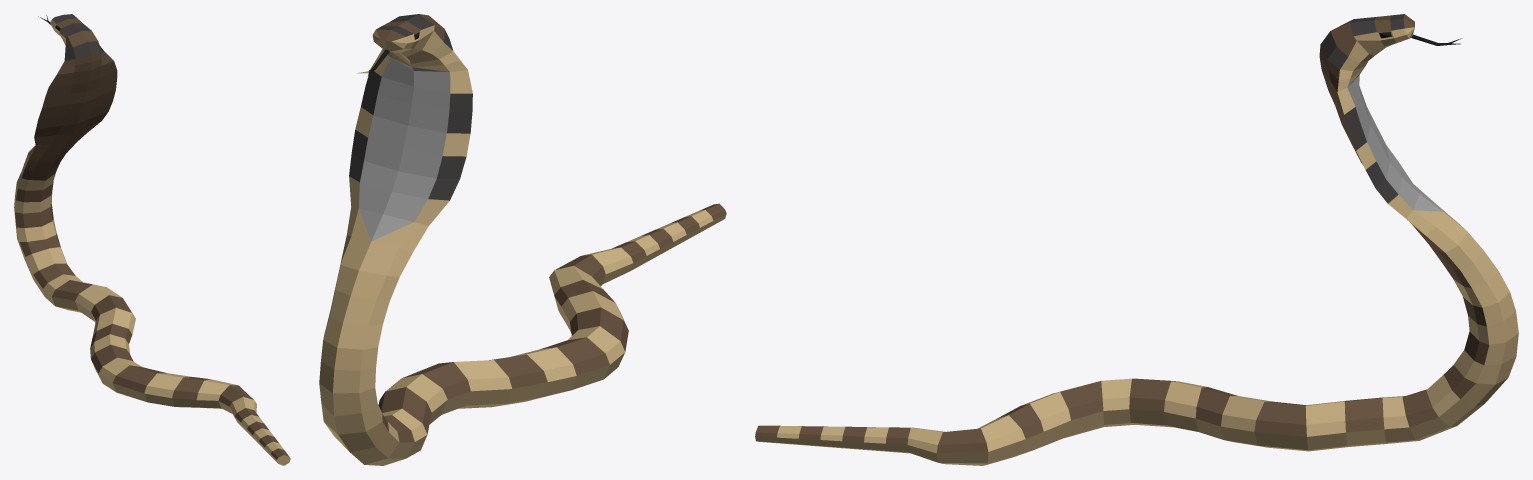
File: Cobra.fbx
3 renders of one model, left to right at view 1: azimuth 30°, elevation 25°; view 2: azimuth 150°, elevation 25°; view 3: azimuth 270°, elevation 25°, orthographic. The views are drawn at different scales.
Parts seen in each view (by area): view 1: Cylinder; view 2: Cylinder; view 3: Cylinder.
Part boxes in pixels (box(x1,y1,x2,y2)): Cylinder: box(14, 14, 290, 465); Cylinder: box(319, 14, 726, 465); Cylinder: box(755, 14, 1518, 465).
Bounding box in the file's own units: 245 × 752 × 1194.
